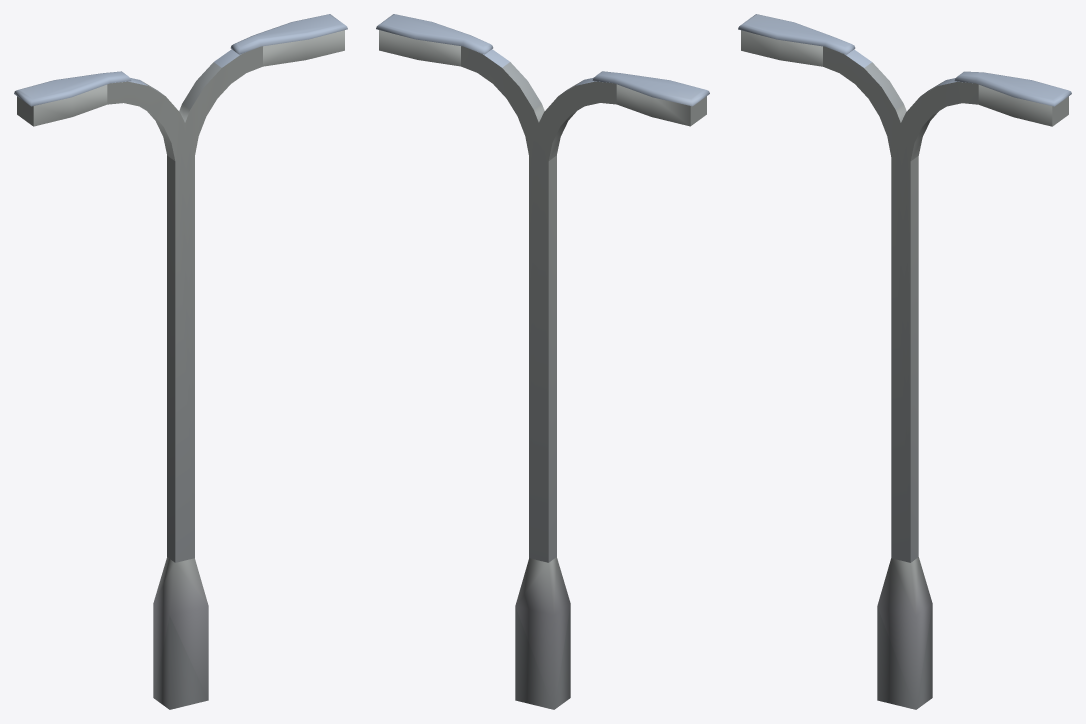
Rendered from lamp_highway_double.glb.
3 views of the same model, side by side, from view 1: azimuth 30°, elevation 25°; view 2: azimuth 150°, elevation 25°; view 3: azimuth 330°, elevation 25° (orthographic).
Parts seen in each view (by area): view 1: Prop; view 2: Prop; view 3: Prop.
Part boxes in pixels (x1,y1,x2,y2): Prop: (14, 14, 347, 709); Prop: (376, 14, 709, 709); Prop: (738, 14, 1071, 709).
Bounding box in the file's own units: 4.68 × 9.08 × 0.475.
